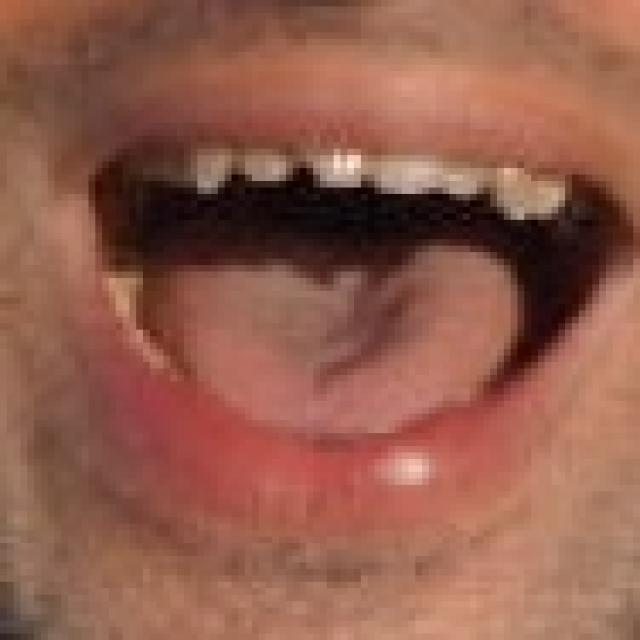open-mouth: (68, 116, 633, 530)
